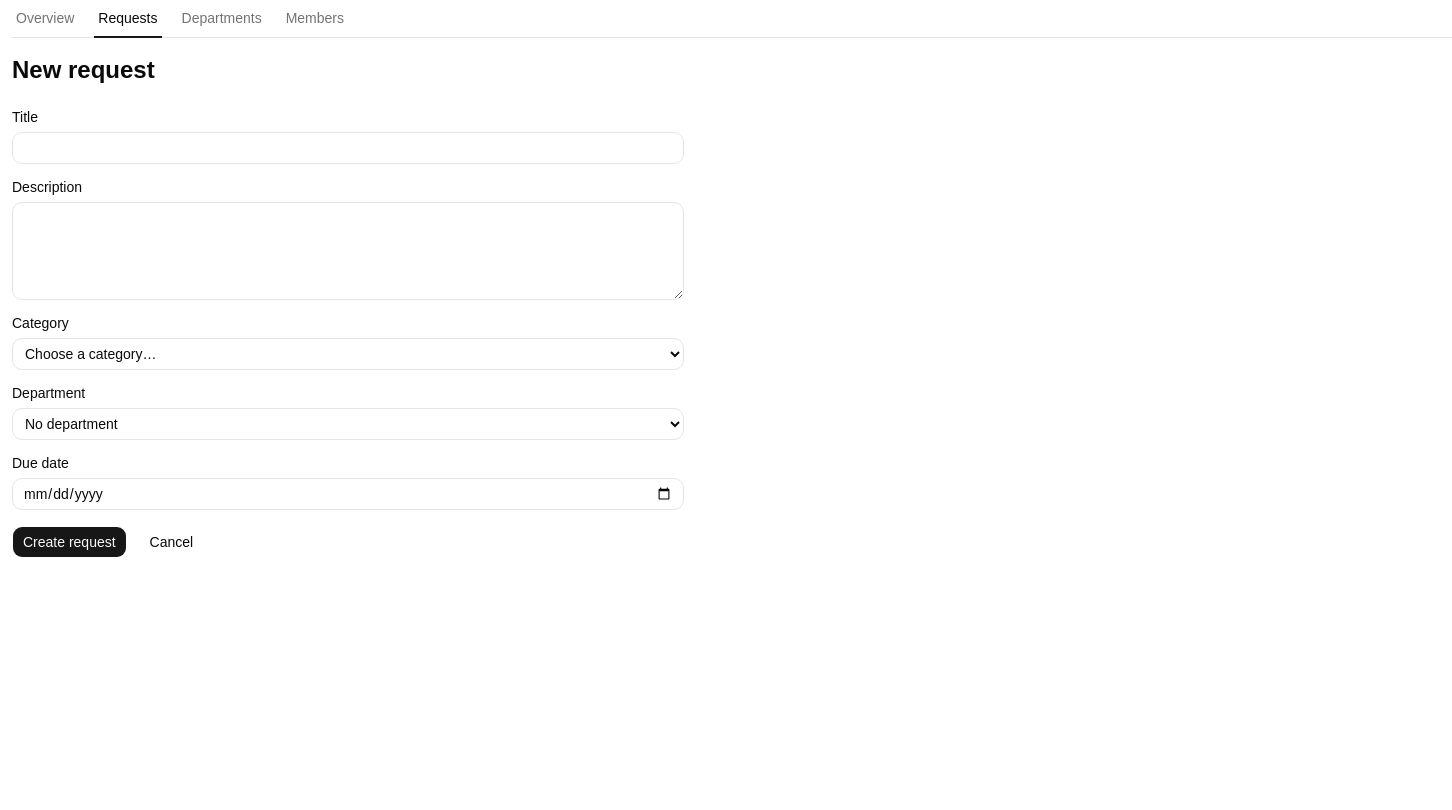
Scenario: RequestFormPage (new) › creates a request with empty optional fields as null and opens it
The width and height of the screenshot is (1452, 810).
In the field labelled "Title": (348, 148) [12,132,684,164], type "  Replace my laptop "
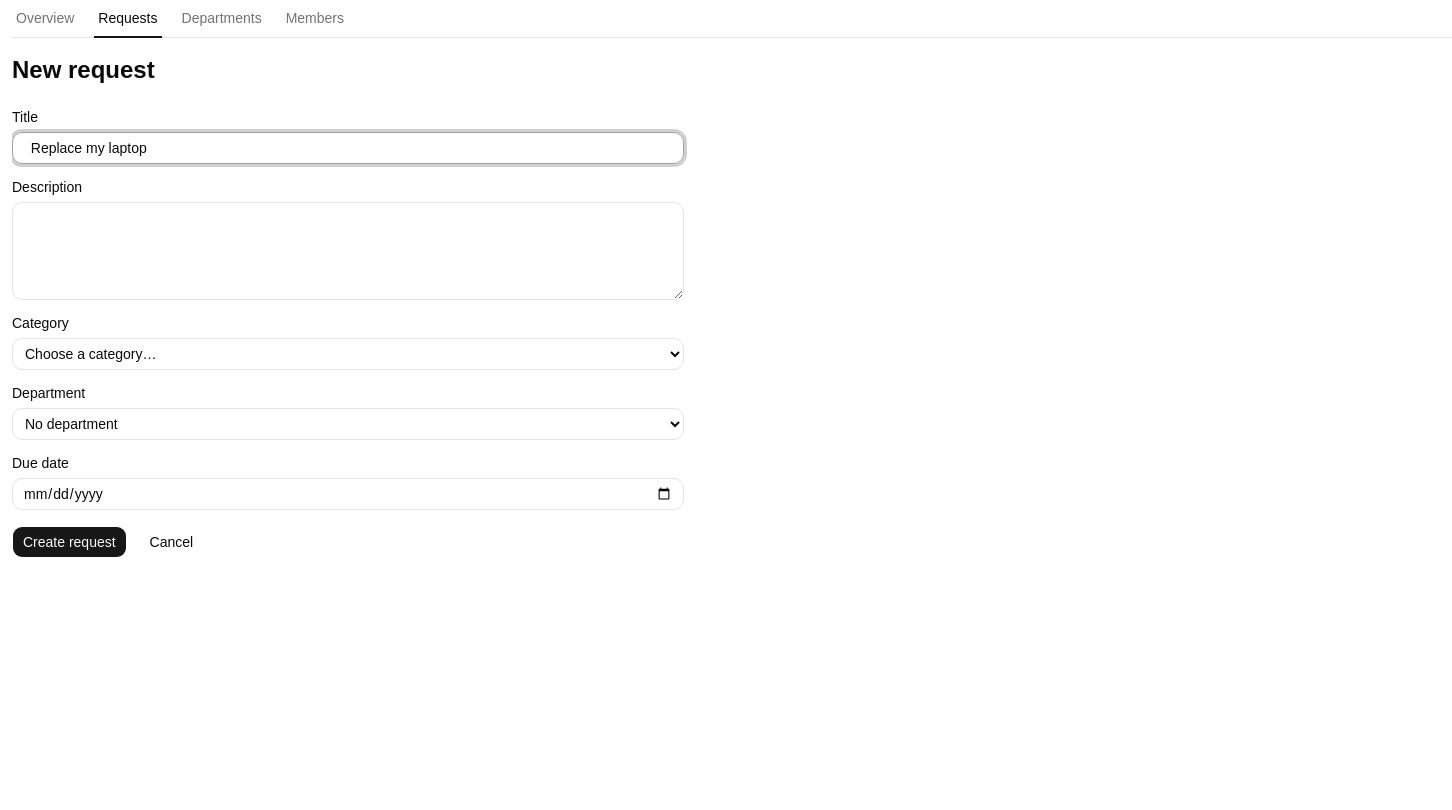
Select "IT support" in the dropdown labelled "Category": (348, 354) [12,338,684,370]
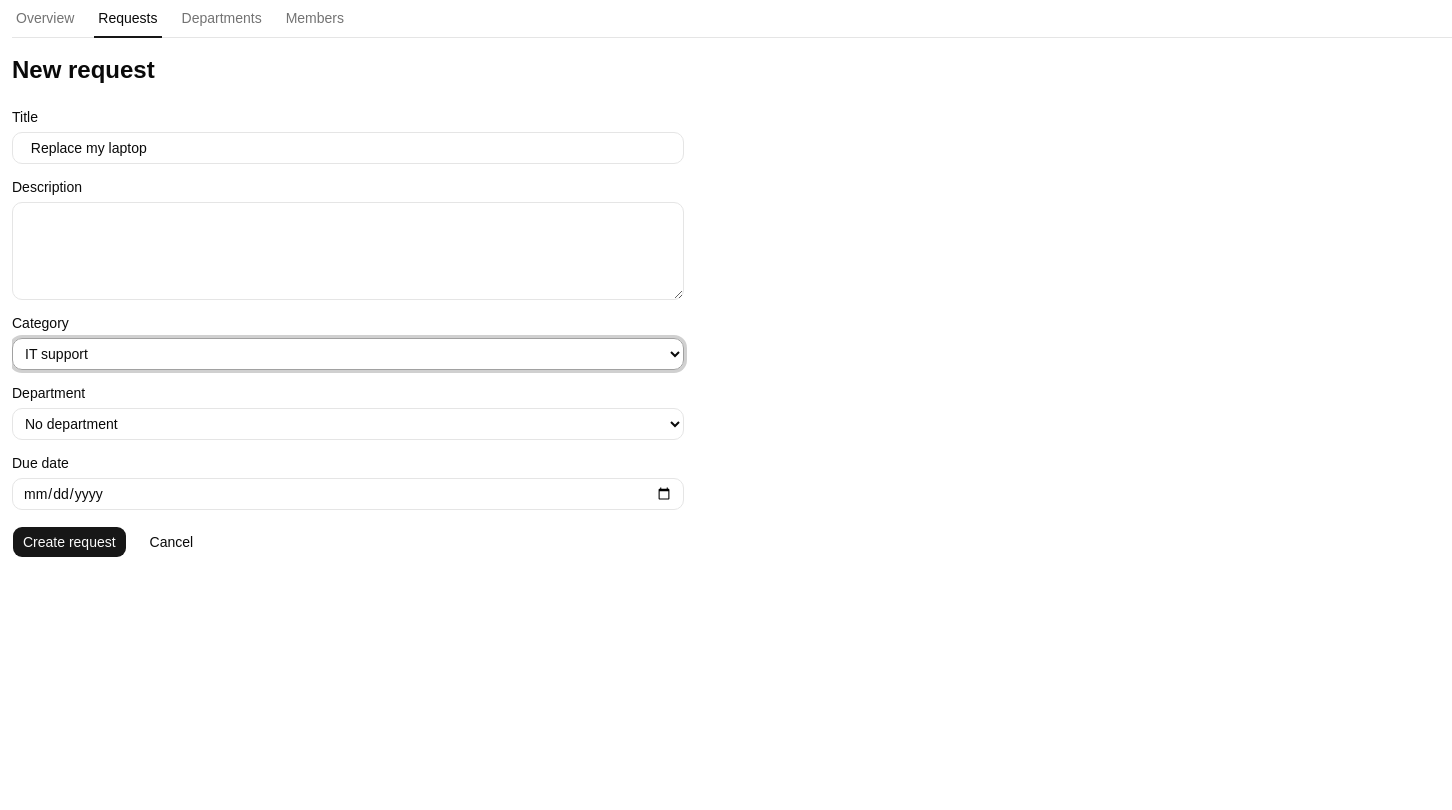
Click the button "Create request": (69, 542) [12,526,127,558]
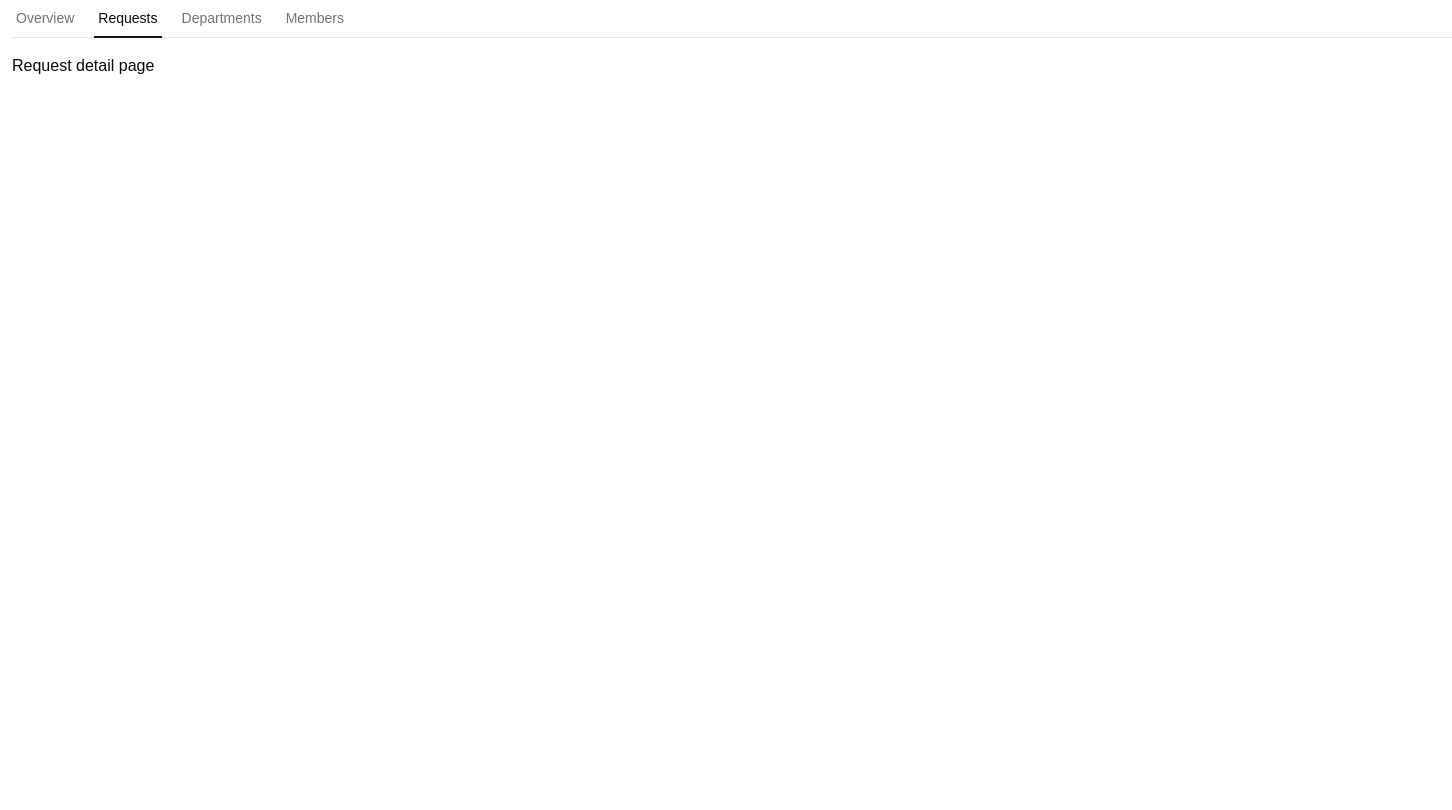
Now the text "Request detail page" is shown, box [12,57,154,74]
